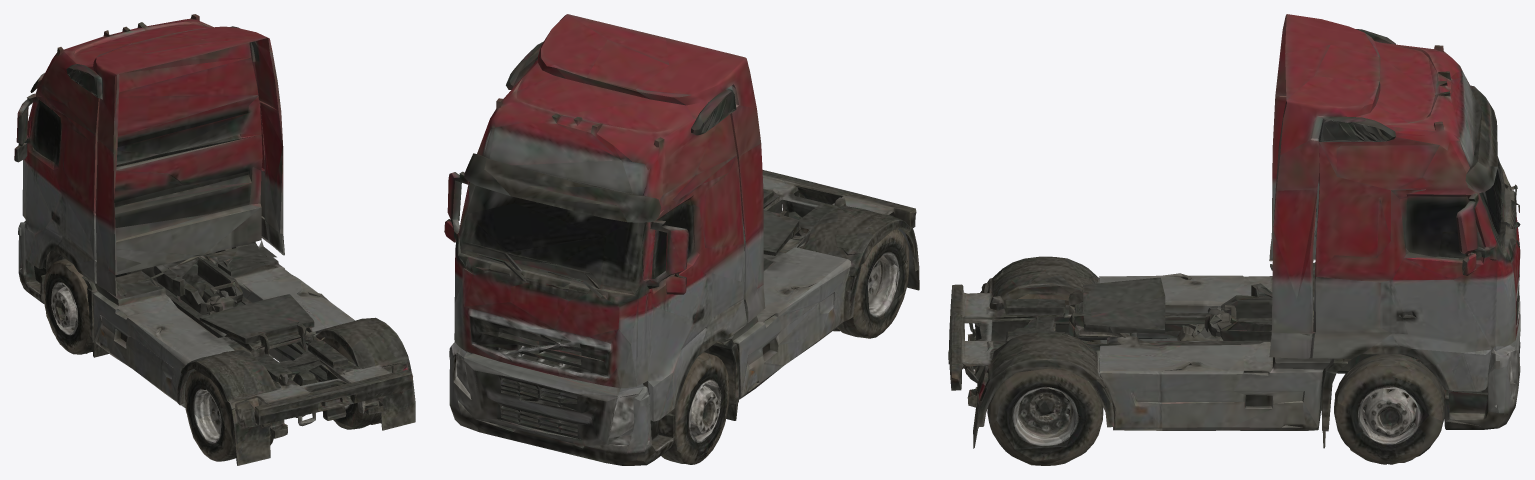
Rendered from Semi_Truck_Tractor_24.glb.
3 renders of one model, left to right at view 1: azimuth 30°, elevation 25°; view 2: azimuth 150°, elevation 25°; view 3: azimuth 270°, elevation 25°, orthographic. The views are drawn at different scales.
Visible parts, largest first — view 1: output_unwrapped; view 2: output_unwrapped; view 3: output_unwrapped.
Boxes of the visible parts, x1,y1,x2,y2 form: output_unwrapped: (14, 14, 415, 465); output_unwrapped: (444, 14, 919, 465); output_unwrapped: (948, 14, 1520, 465).
Bounding box in the file's own units: 3.37 × 4.87 × 7.
Materials: 1 (1 with a texture image).
